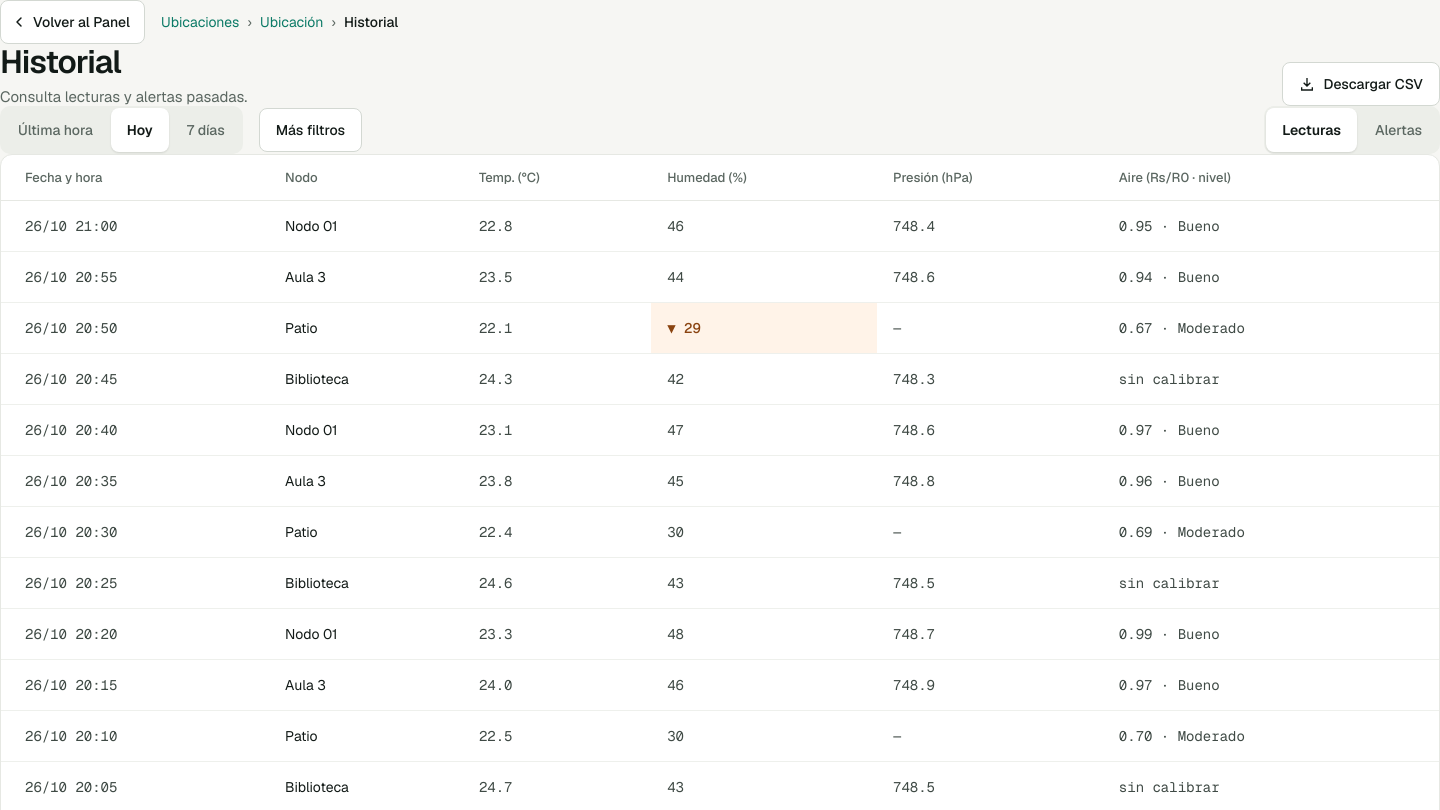
Test: Historial › muestra alertas activas y resueltas y respeta el filtro de nodo
Click the button "7 días". click: (206,130)
box: [171, 108, 241, 152]
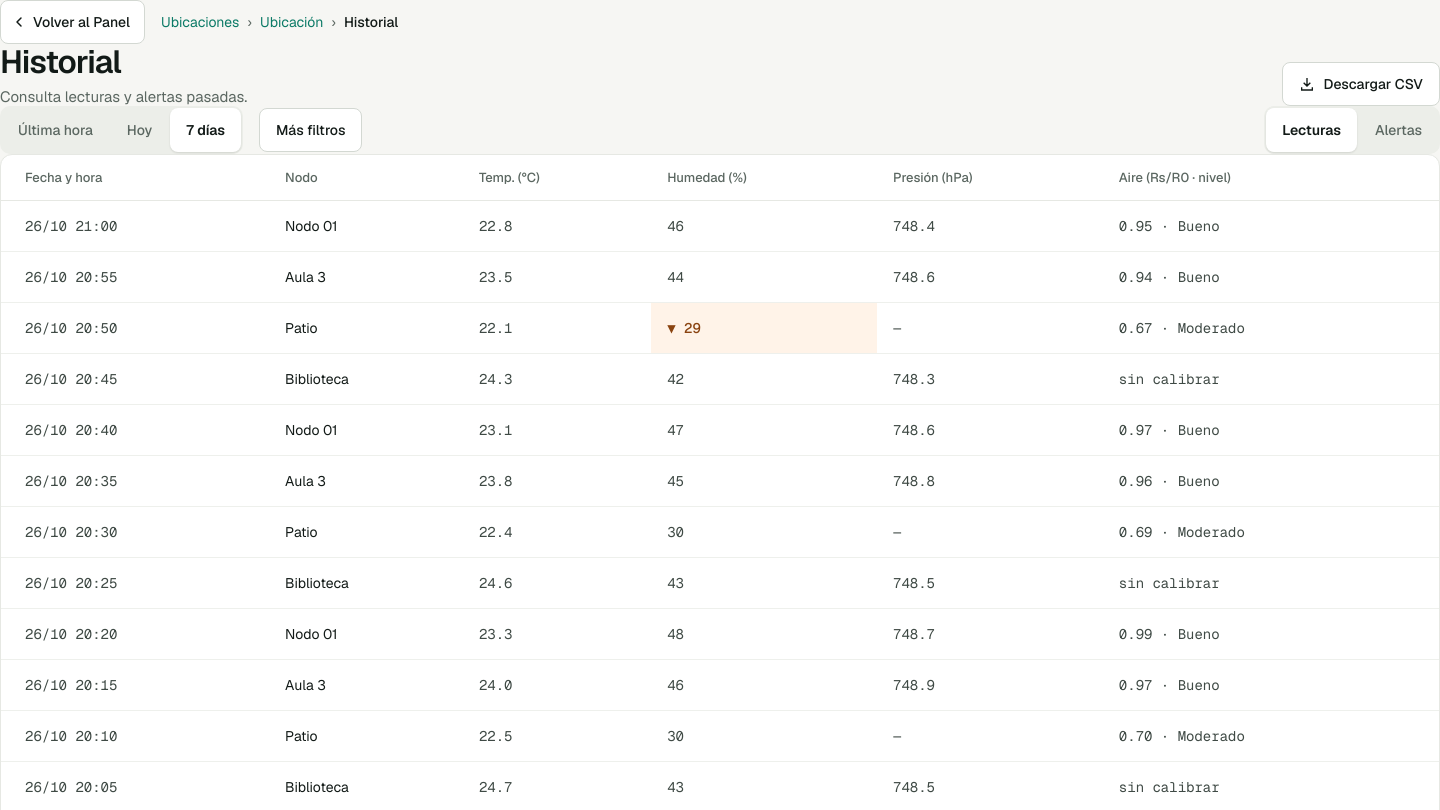
Click the button "Alertas". click: (1398,130)
box: [1359, 108, 1438, 152]
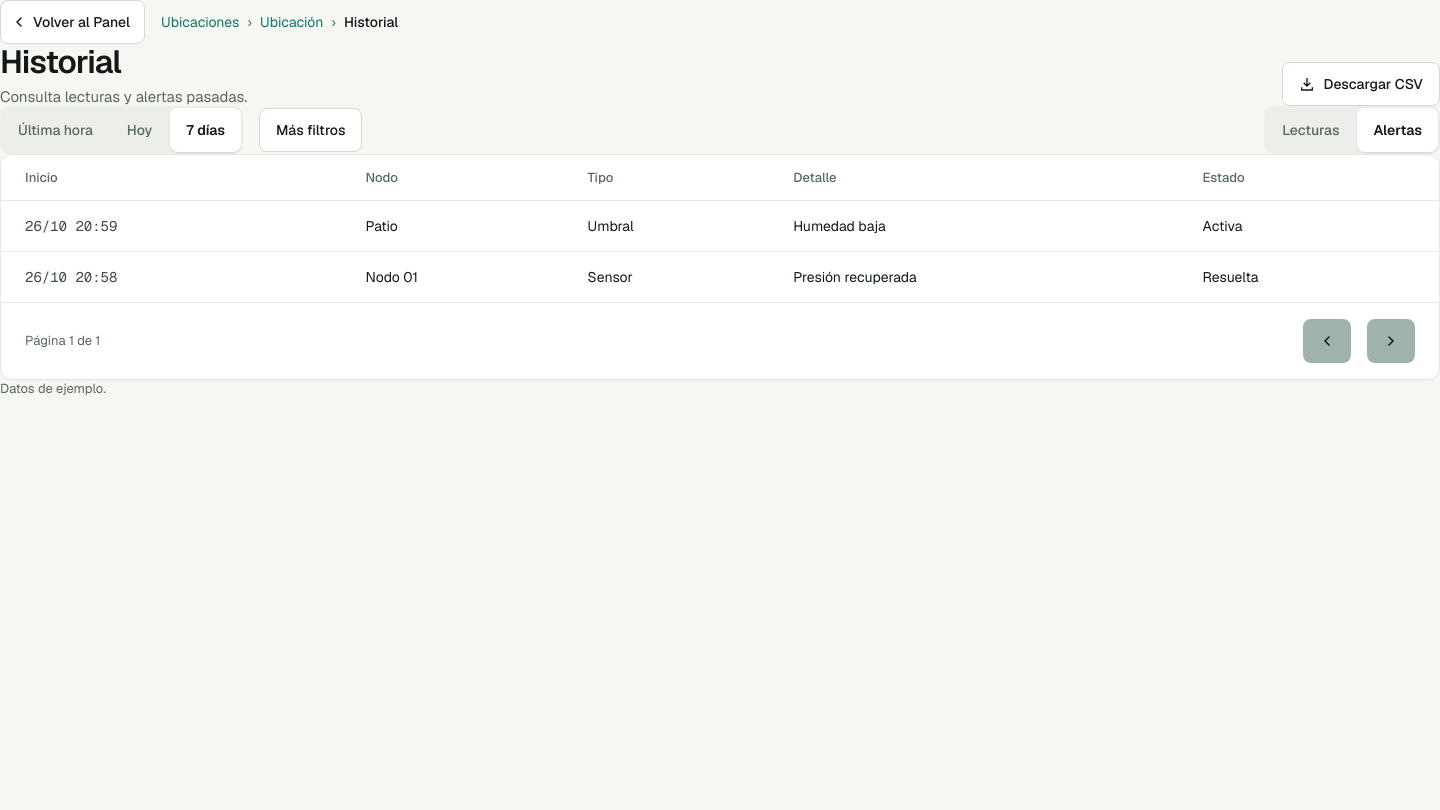
Result: the table named "Historial de alertas" is shown at [1, 155, 1439, 302]
Result: the text "Activa" is shown at [1187, 200, 1439, 251]
Result: the text "Resuelta" is shown at [1187, 251, 1439, 302]
Click the button "Más filtros". click: (311,130)
box: [259, 108, 362, 152]
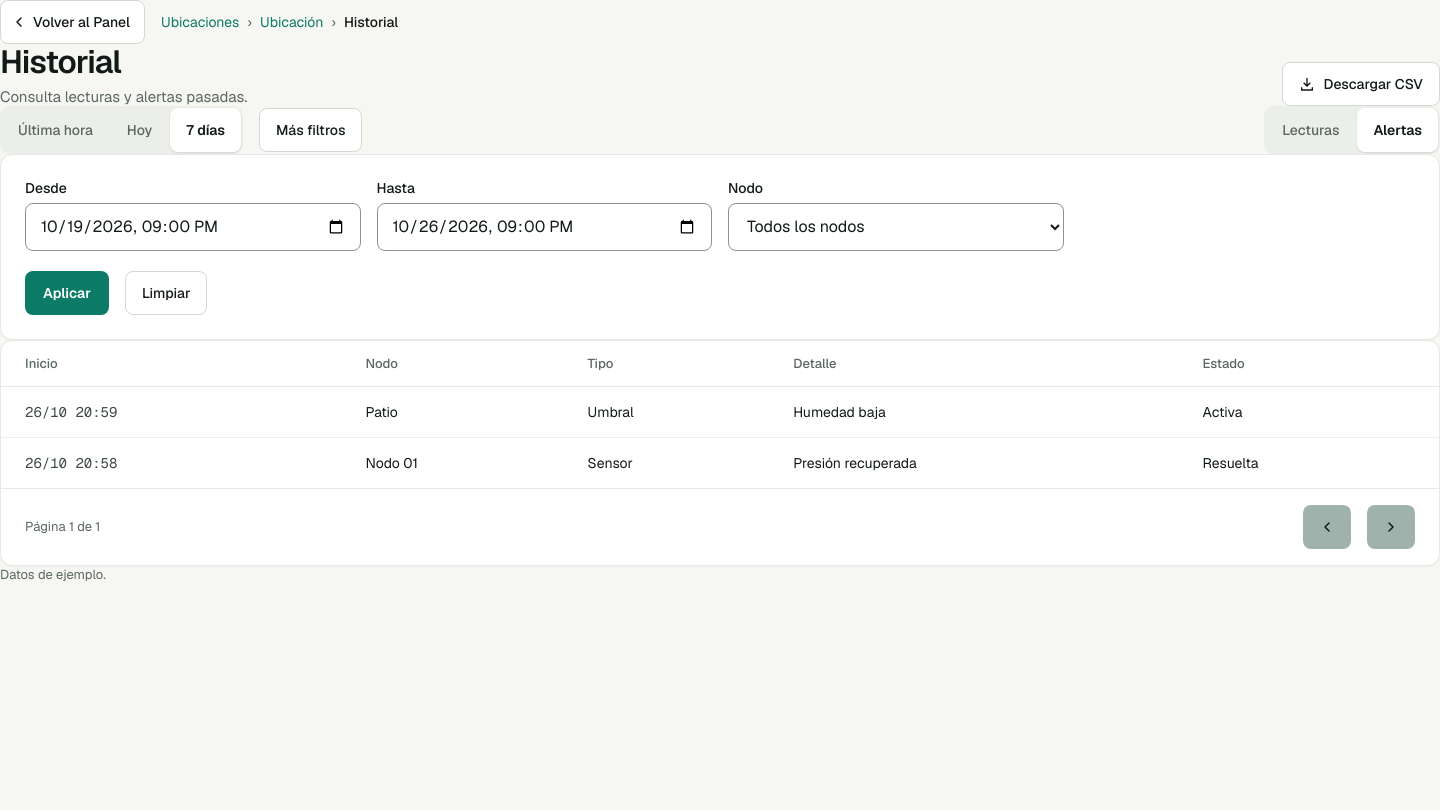
Select "Patio" in the dropdown labelled "Nodo". click: (896,227)
box: [728, 203, 1064, 251]
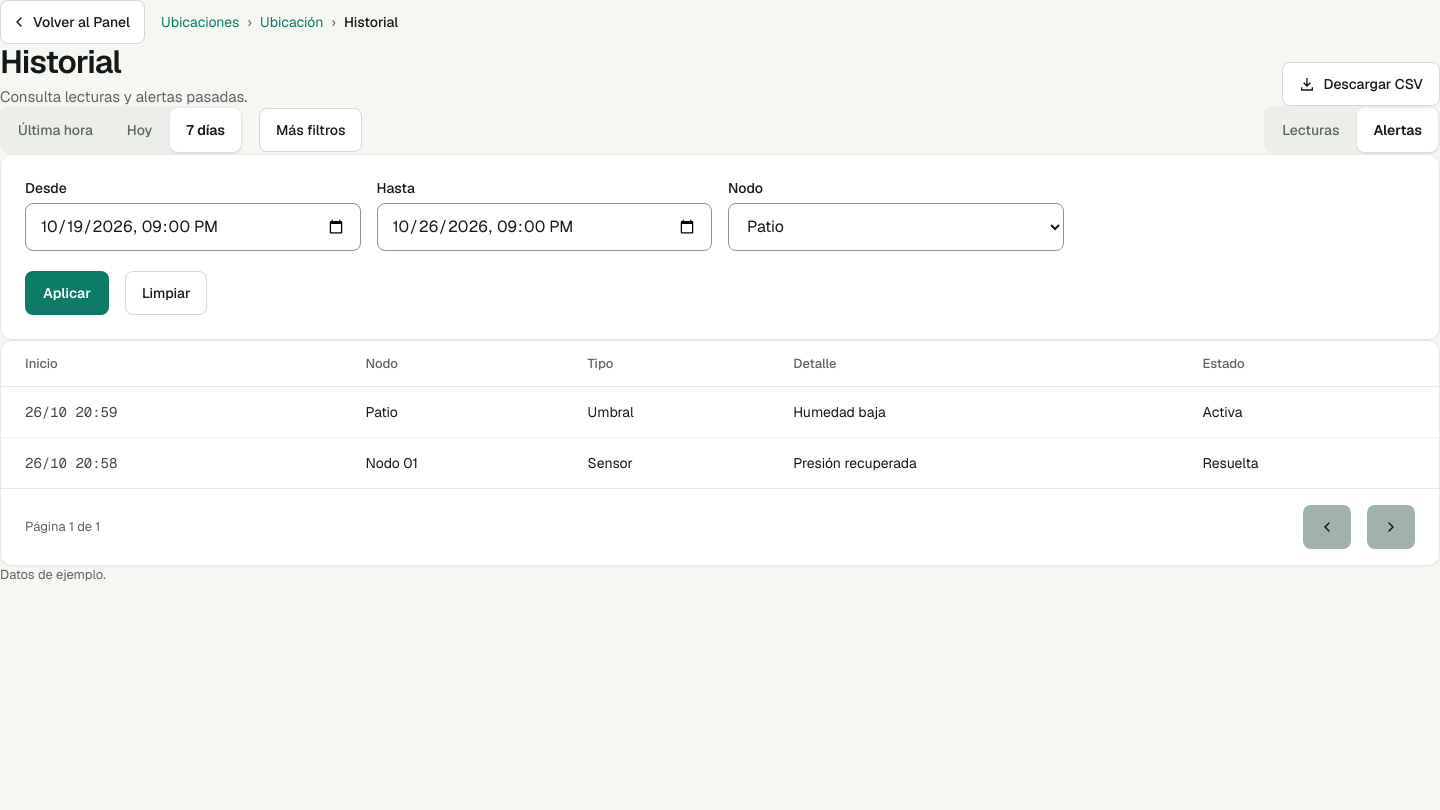
Click the button "Aplicar". click: (67,293)
box: [25, 271, 109, 315]
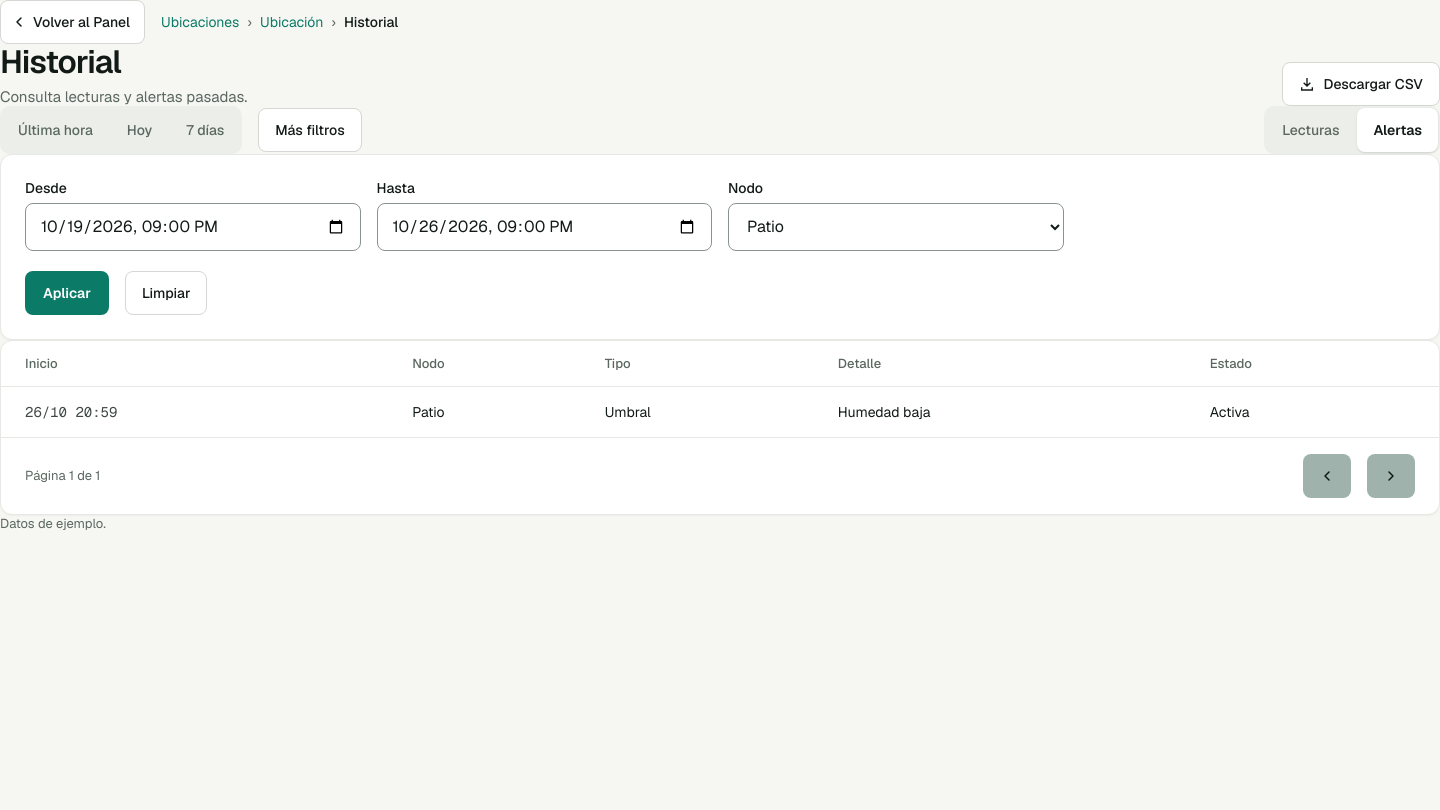
Expected: the table is shown, [1, 341, 1439, 437]
Result: the text "Humedad baja" is shown at [822, 386, 1194, 437]
Result: the text "Presión recuperada" is gone
